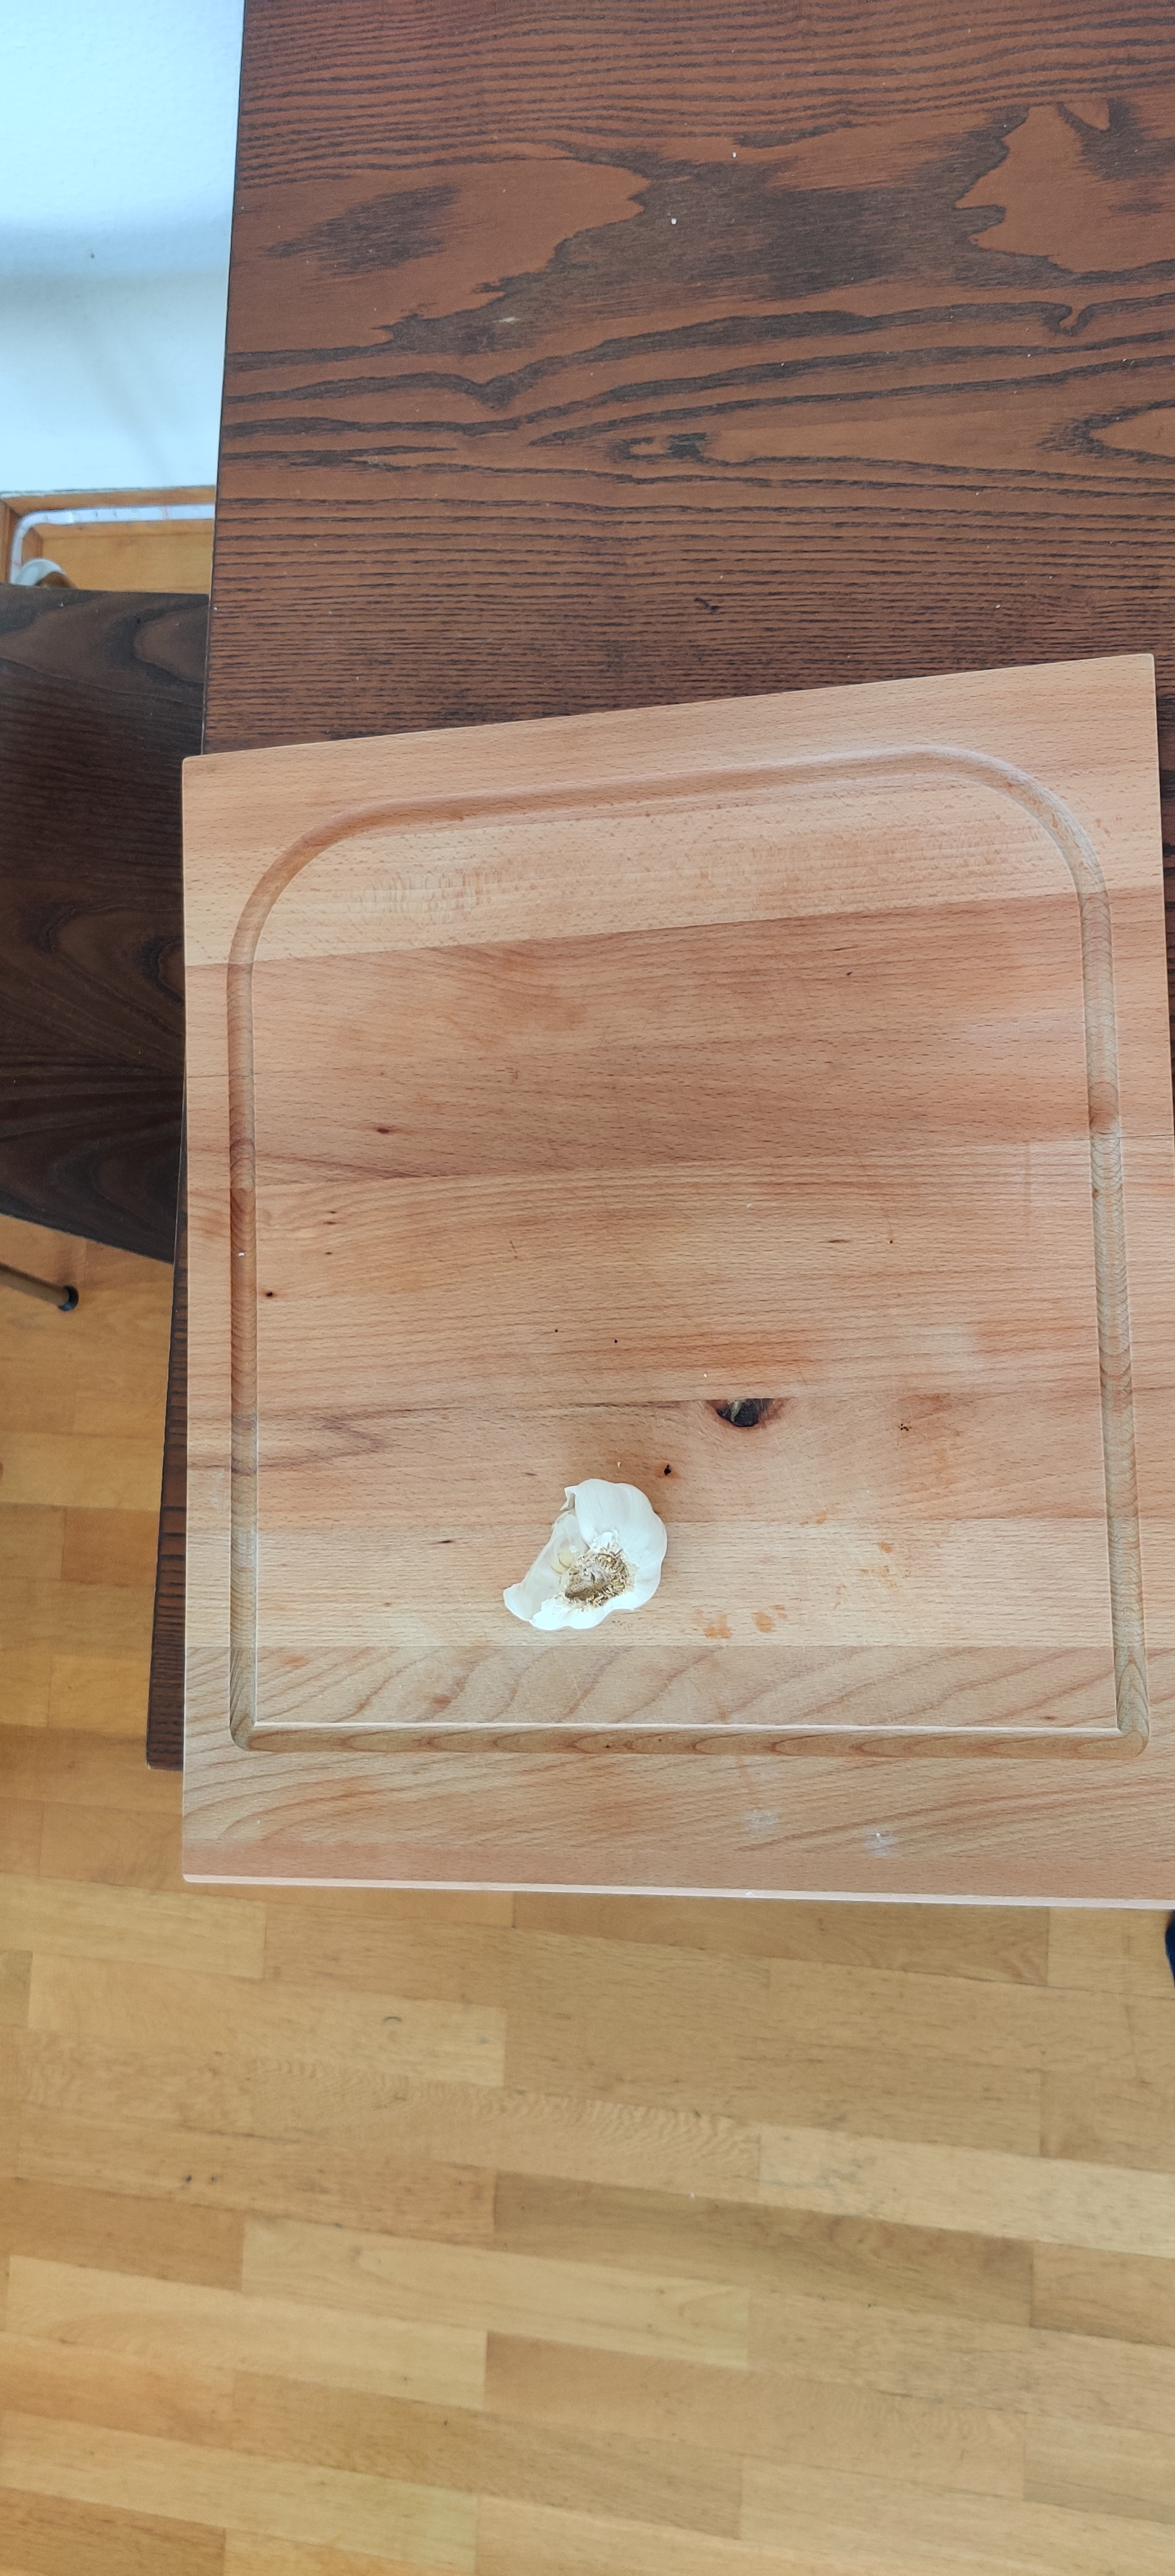Knoblauch: (501, 1475, 672, 1630)
